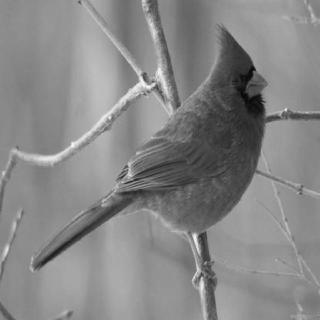other: (102, 200, 160, 213)
